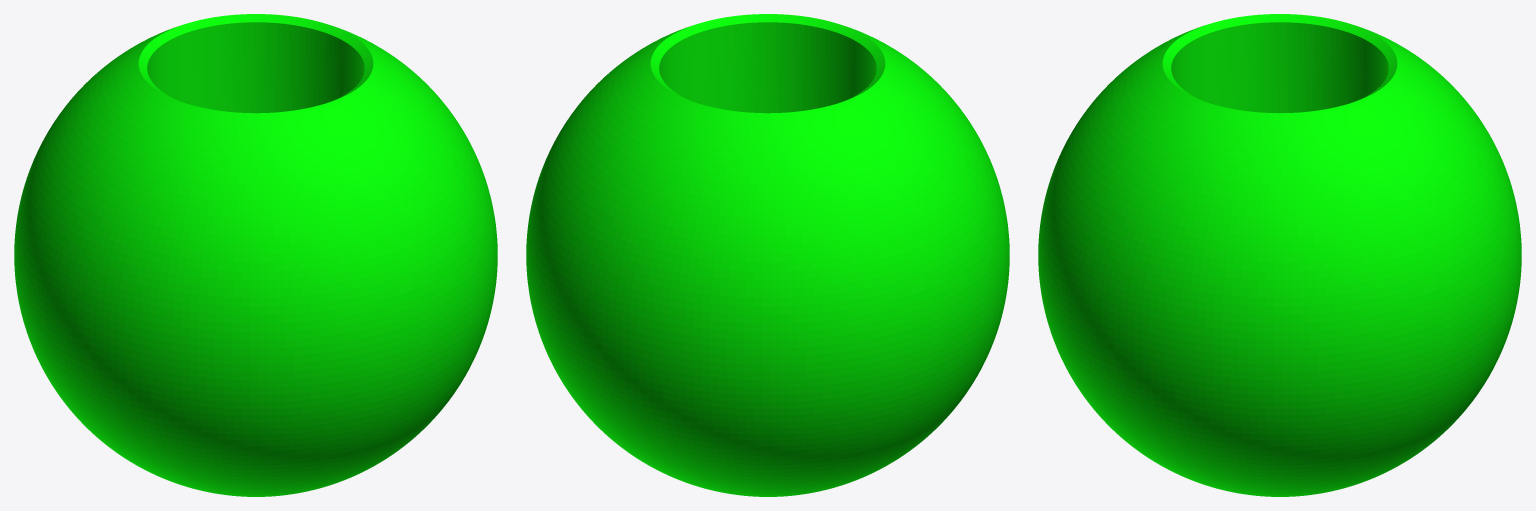
File: CalibrationBall.dae
3 renders of one model, left to right at view 1: azimuth 30°, elevation 25°; view 2: azimuth 150°, elevation 25°; view 3: azimuth 270°, elevation 25°, orthographic.
Parts seen in each view (by area): view 1: TestBall; view 2: TestBall; view 3: TestBall.
Part boxes in pixels (x1,y1,x2,y2): TestBall: (14, 14, 497, 496); TestBall: (526, 14, 1009, 496); TestBall: (1038, 14, 1521, 496).
Size of the model in its own units: 0.01 by 0.01 by 0.00937.
